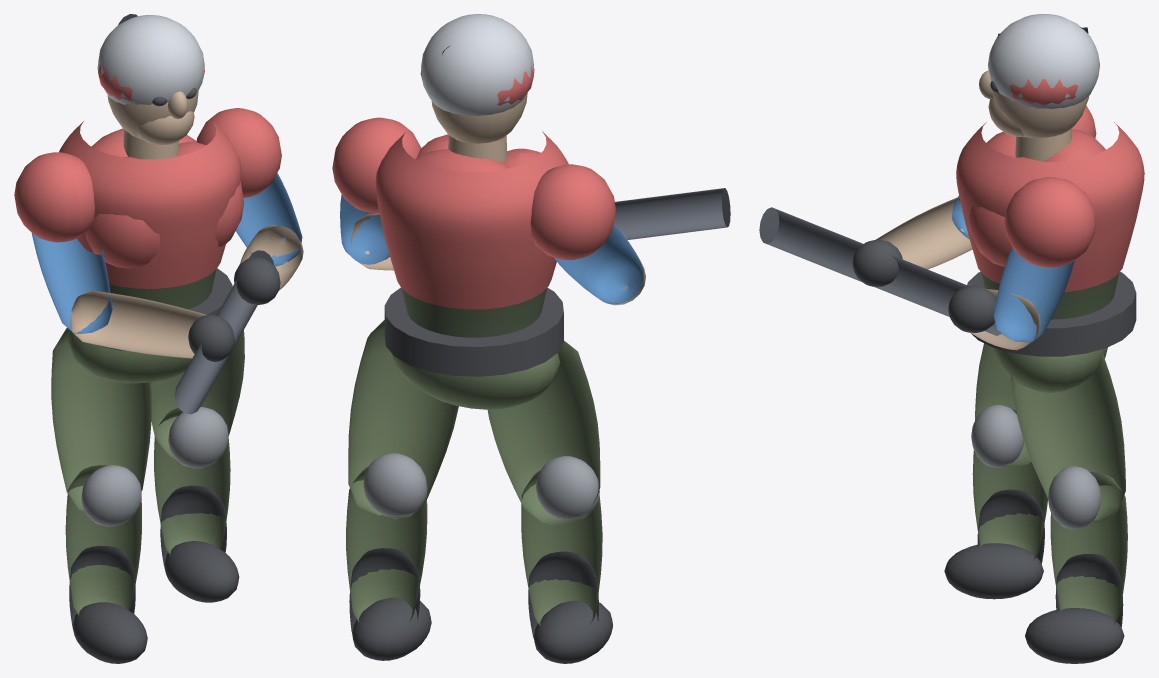
The model's file is sov_e1.glb.
3 views of the same model, side by side, from view 1: azimuth 30°, elevation 25°; view 2: azimuth 150°, elevation 25°; view 3: azimuth 270°, elevation 25° (orthographic). The views are drawn at different scales.
Parts seen in each view (by area): view 1: Hull; view 2: Hull; view 3: Hull.
Part boxes in pixels (x1,y1,x2,y2): Hull: [14, 14, 303, 663]; Hull: [332, 14, 730, 663]; Hull: [759, 14, 1144, 663].
Bounding box in the file's own units: 0.4343 × 0.947 × 0.5429.
